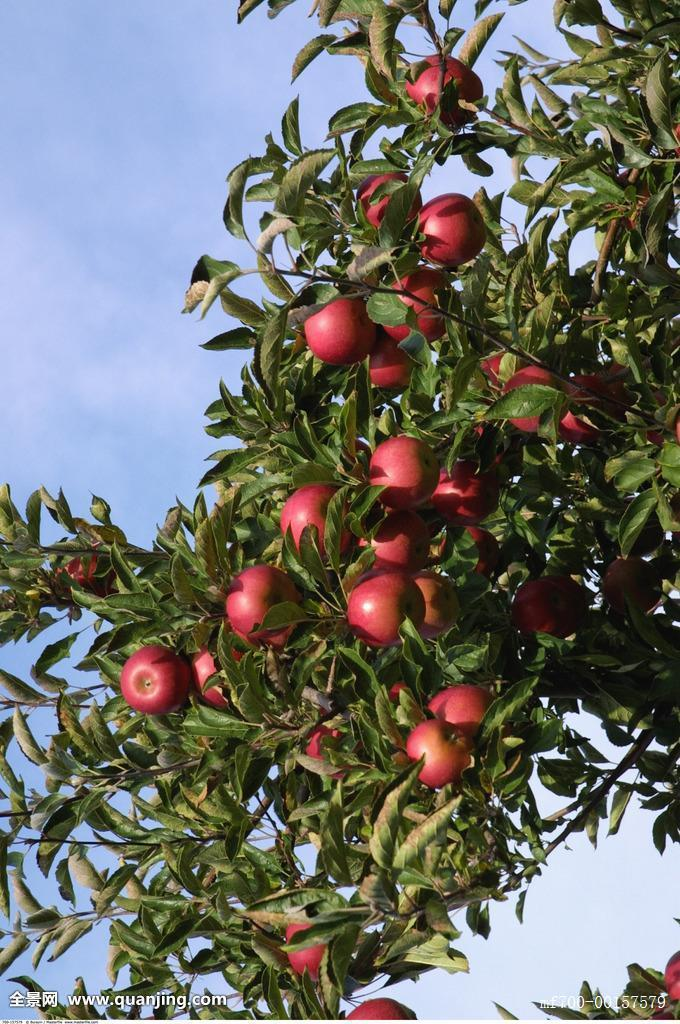apple: (344, 571, 420, 648), (408, 54, 483, 129), (402, 717, 475, 793), (223, 567, 302, 636), (365, 436, 438, 509), (508, 576, 587, 641), (417, 194, 483, 270), (119, 645, 187, 716), (302, 297, 373, 365), (504, 362, 563, 433), (560, 378, 619, 449), (280, 484, 339, 552), (394, 269, 446, 340), (357, 177, 416, 230), (427, 687, 491, 735), (603, 560, 660, 611), (285, 923, 330, 975), (367, 339, 410, 390), (420, 577, 459, 630)
